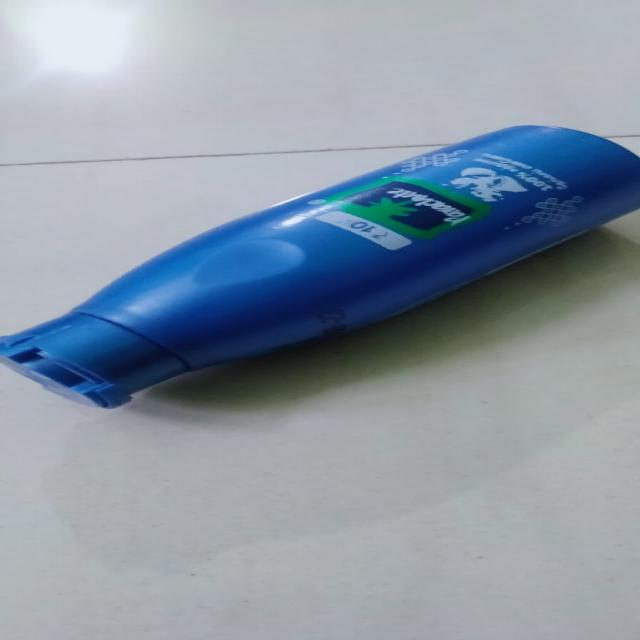oil: (0, 108, 640, 446)
